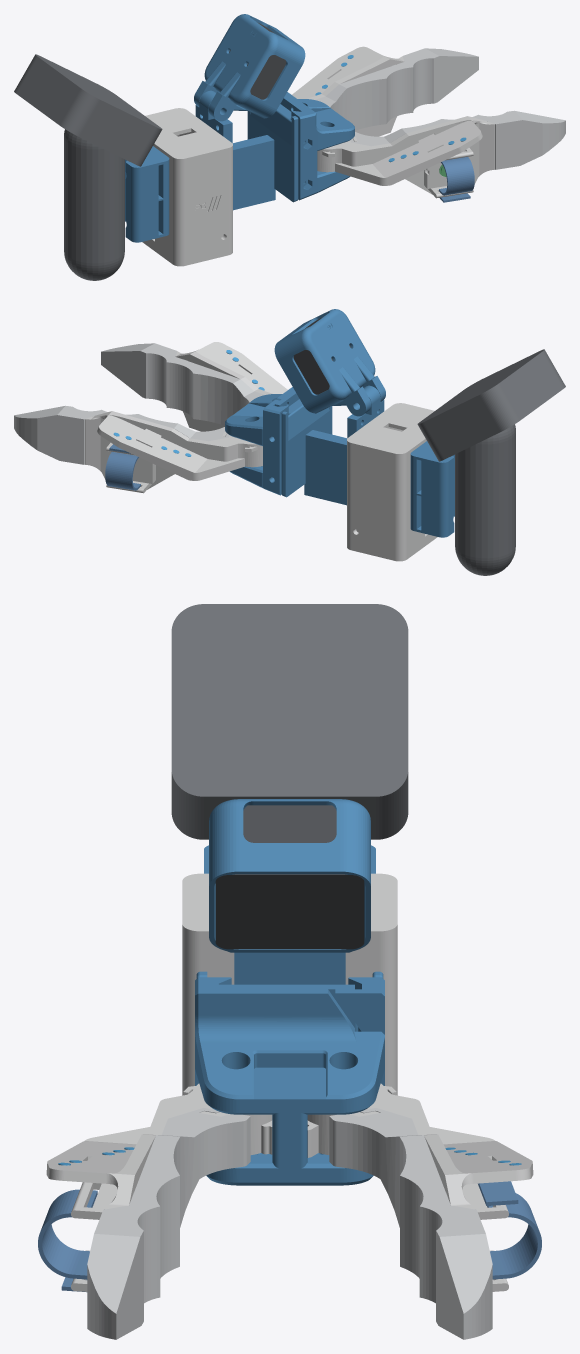
Rendered from chopstick_right.glb.
3 views of the same model, one above another, from view 1: azimuth 30°, elevation 25°; view 2: azimuth 150°, elevation 25°; view 3: azimuth 270°, elevation 25° (orthographic). The views are drawn at different scales.
Visible parts, largest first — view 1: quest_controller_envelope, ebox, jaw_right_dc_button, tip_tpu_left, d405_cup, d405_frame, tip_tpu_right, chopstick_base_dc, quest_cradle, jaw_left_dc, sleeve_strap_right, d405_envelope (+1 smaller); view 2: quest_controller_envelope, ebox, jaw_left_dc, tip_tpu_right, d405_cup, d405_frame, tip_tpu_left, quest_cradle, jaw_right_dc_button, chopstick_base_dc, chopstick_clip_dc, sleeve_strap_left (+2 smaller); view 3: quest_controller_envelope, chopstick_base_dc, tip_tpu_left, tip_tpu_right, d405_envelope, d405_cup, ebox, jaw_right_dc_button, jaw_left_dc, d405_frame, sleeve_strap_left, sleeve_strap_right (+1 smaller).
Part boxes in pixels (x1,y1,x2,y2): quest_controller_envelope: (14,54,162,280); ebox: (145,108,232,263); jaw_right_dc_button: (317,116,494,198); tip_tpu_left: (315,48,478,130); d405_cup: (194,14,305,121); d405_frame: (195,90,298,210); tip_tpu_right: (350,110,565,169); chopstick_base_dc: (280,92,354,200); quest_cradle: (125,146,169,242); jaw_left_dc: (292,46,404,136); sleeve_strap_right: (439,157,474,202); d405_envelope: (229,22,286,99); quest_controller_envelope: (417,349,565,575); ebox: (347,403,434,558); jaw_left_dc: (85,411,262,493); tip_tpu_right: (101,343,264,425); d405_cup: (274,309,385,416); d405_frame: (281,385,384,505); tip_tpu_left: (14,405,229,464); quest_cradle: (410,441,454,537); jaw_right_dc_button: (175,342,287,431); chopstick_base_dc: (225,387,299,488); chopstick_clip_dc: (263,399,288,495); sleeve_strap_left: (105,444,140,490); quest_controller_envelope: (171,604,408,839); chopstick_base_dc: (195,977,384,1185); tip_tpu_left: (329,1108,492,1339); tip_tpu_right: (87,1108,250,1339); d405_envelope: (215,805,364,949); d405_cup: (209,799,370,952); ebox: (182,873,397,1095); jaw_right_dc_button: (46,1083,272,1291); jaw_left_dc: (307,1083,533,1291); d405_frame: (196,952,383,1031); sleeve_strap_left: (478,1181,541,1279); sleeve_strap_right: (38,1189,97,1292).
Bounding box in the file's own units: 0.3118 × 0.1316 × 0.1405.
